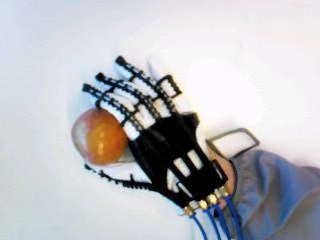apple: (71, 107, 127, 164)
hand: (79, 55, 228, 216)
